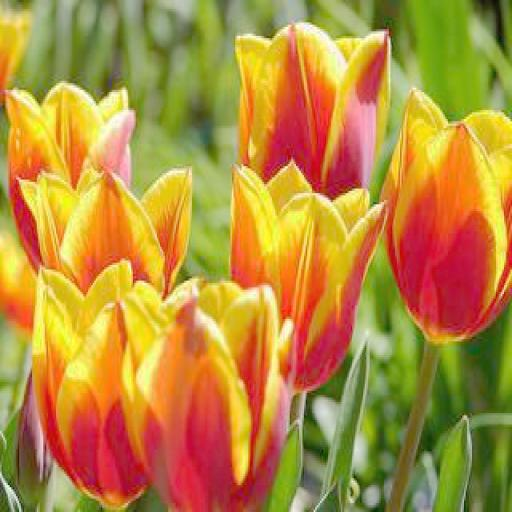tulip: (31, 262, 182, 512), (124, 278, 282, 512), (230, 162, 389, 393), (382, 83, 512, 346), (236, 20, 390, 207)
